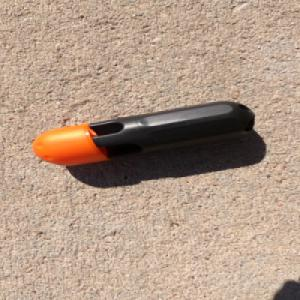PlasticPart: (31, 99, 258, 166)
